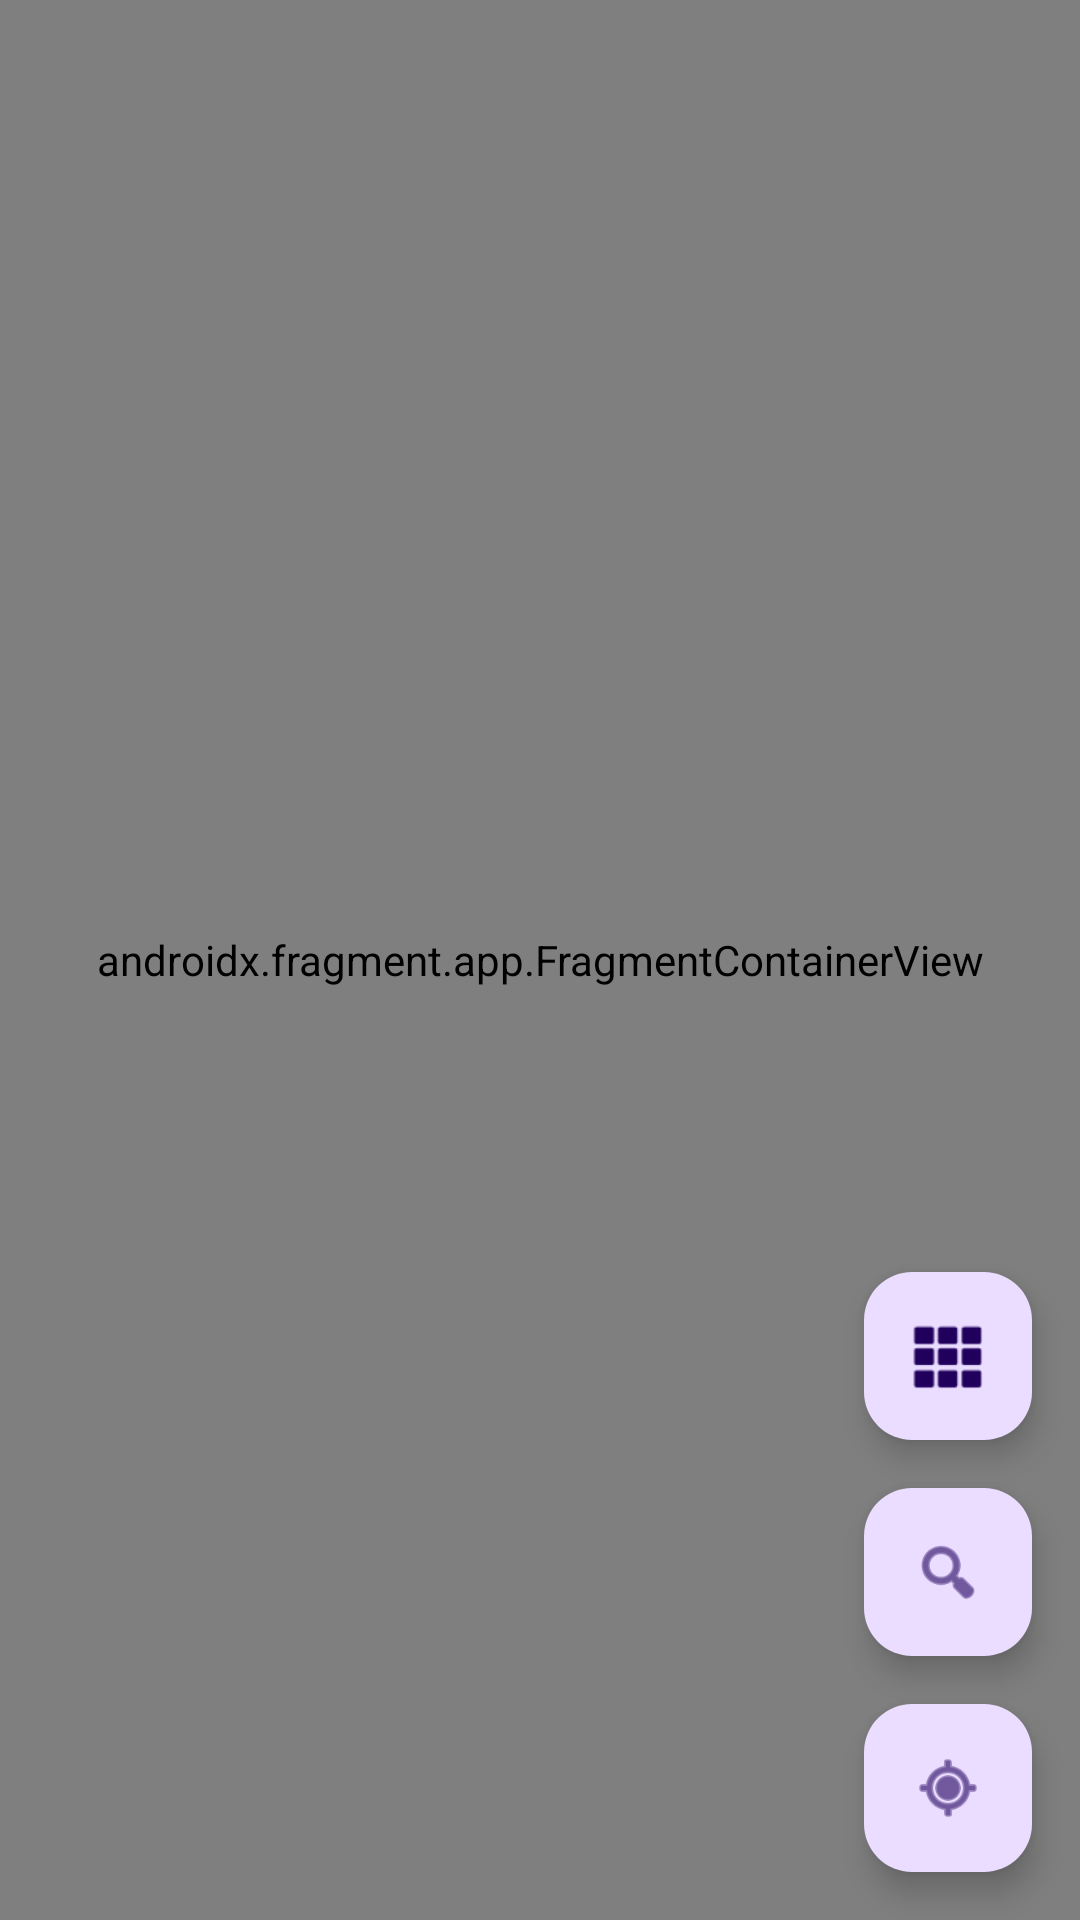

Icon bounding boxes for this 1080 x 1920 phone screenshot, format (x1, y1, x2, y2):
dialer: (864, 1272, 1032, 1440)
mylocation: (864, 1704, 1032, 1872)
search: (864, 1488, 1032, 1656)
